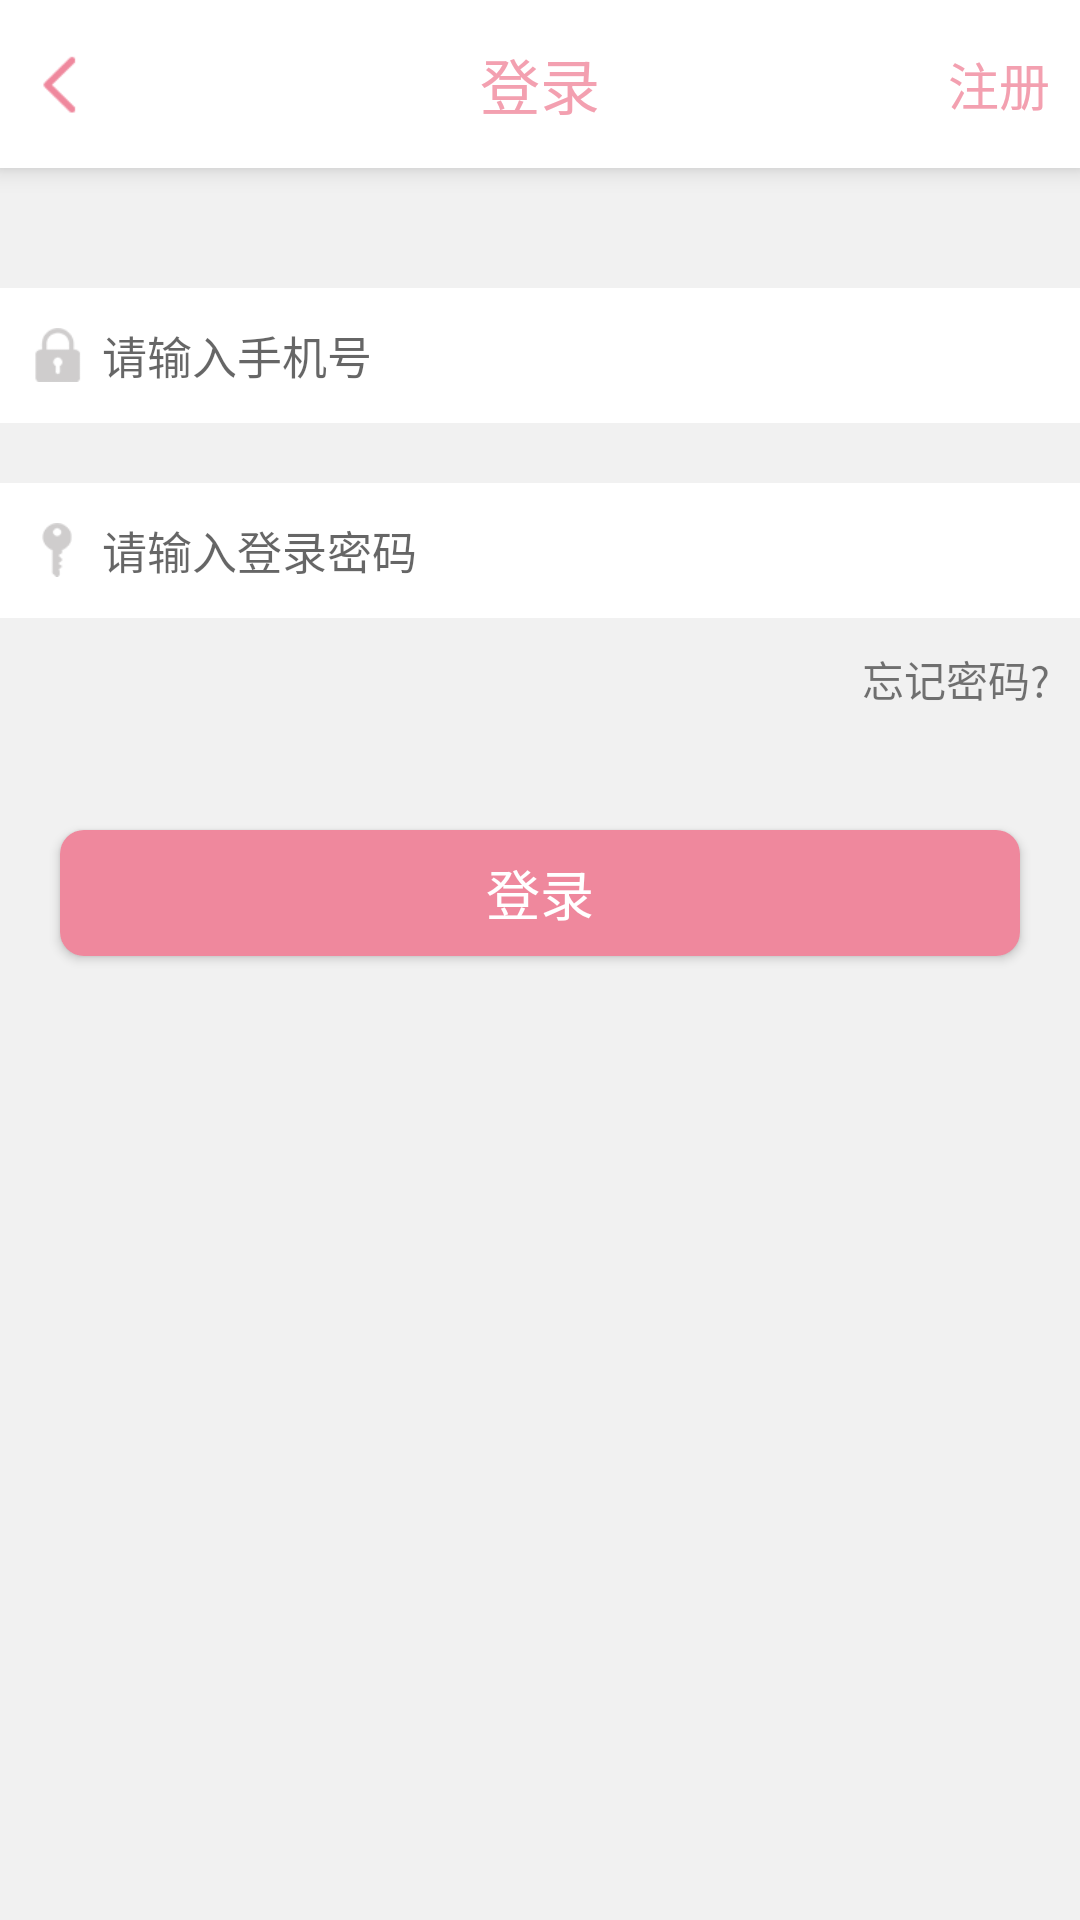

Icons on this 1080×1920 Android screen, each with the point to tap as point (x, y):
suo: point (57, 355)
yaoshi: point (57, 550)
